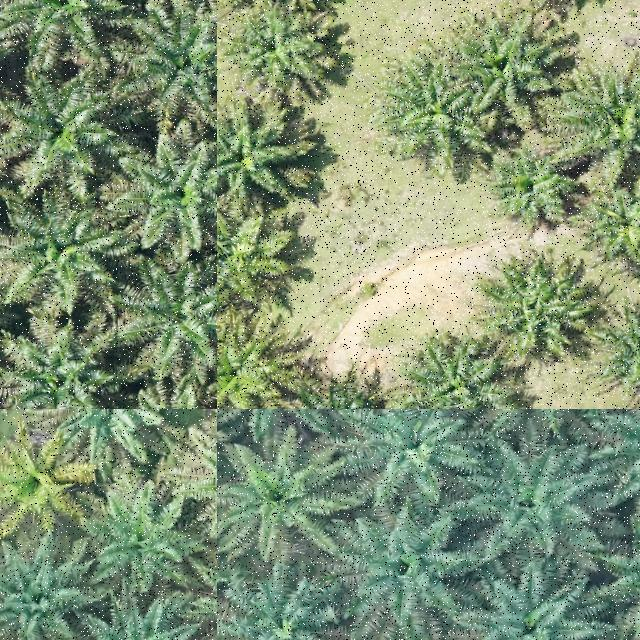Ganoderma: (1, 452, 68, 515)
